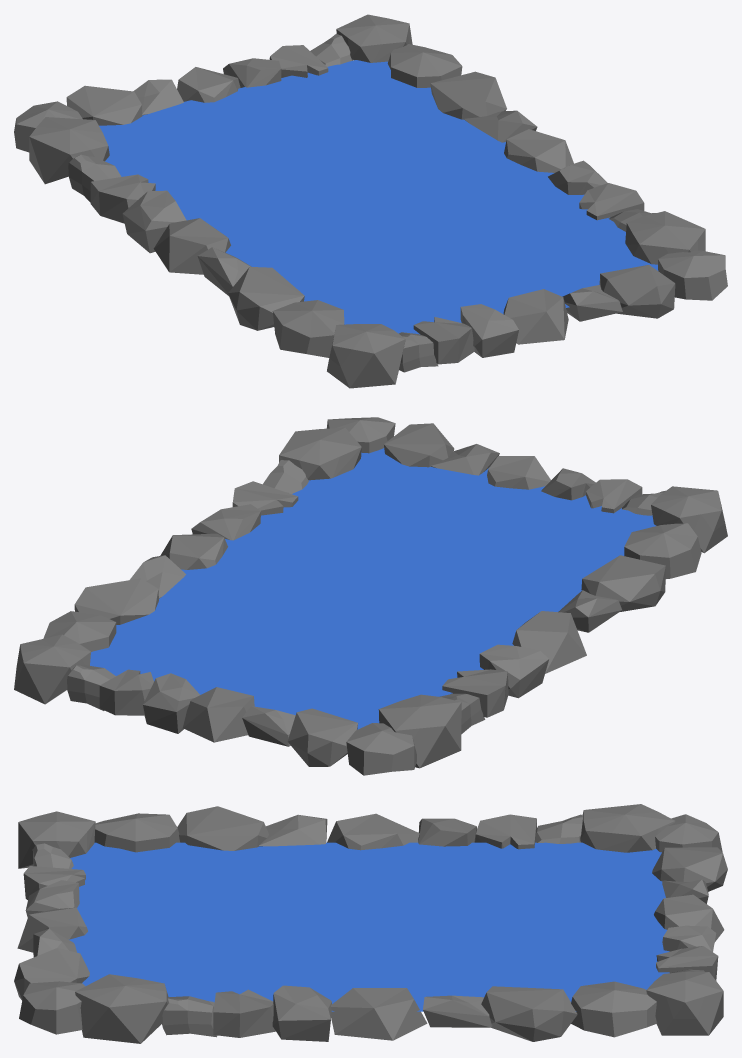
Rendered from lake.glb.
3 renders of one model, top to bottom at view 1: azimuth 30°, elevation 25°; view 2: azimuth 150°, elevation 25°; view 3: azimuth 270°, elevation 25°, orthographic.
Visible parts, largest first — view 1: Plane, Rock1, Rock1.002, Rock8.002, Rock7.002, Rock1.003, Rock7, Rock8, Rock2, Rock2.002, Rock7.003, Rock1.006 (+20 smaller); view 2: Plane, Rock1.002, Rock1.006, Rock7.002, Rock1.003, Rock1, Rock8.002, Rock7.006, Rock8.006, Rock2.006, Rock2.002, Rock7.003 (+20 smaller); view 3: Plane, Rock1.003, Rock1.006, Rock7.003, Rock2.003, Rock8.003, Rock1.002, Rock7.002, Rock5.003, Rock1, Rock8, Rock8.002 (+20 smaller).
Part boxes in pixels (left/top/right/bottom): Plane: left=99, top=60, right=658, bottom=334; Rock1: left=327, top=324, right=405, bottom=388; Rock1.002: left=29, top=117, right=109, bottom=184; Rock8.002: left=272, top=300, right=344, bottom=357; Rock7.002: left=228, top=267, right=304, bottom=330; Rock1.003: left=625, top=211, right=705, bottom=264; Rock7: left=599, top=265, right=675, bottom=318; Rock8: left=658, top=250, right=727, bottom=300; Rock2: left=503, top=289, right=568, bottom=344; Rock2.002: left=153, top=218, right=230, bottom=274; Rock7.003: left=430, top=71, right=506, bottom=119; Rock1.006: left=336, top=14, right=412, bottom=62; Plane: left=90, top=448, right=656, bottom=729; Rock1.002: left=378, top=694, right=461, bottom=768; Rock1.006: left=14, top=634, right=90, bottom=704; Rock7.002: left=581, top=555, right=665, bottom=611; Rock1.003: left=279, top=427, right=361, bottom=480; Rock1: left=651, top=486, right=727, bottom=553; Rock8.002: left=624, top=523, right=701, bottom=578; Rock7.006: left=287, top=708, right=357, bottom=766; Rock8.006: left=346, top=723, right=416, bottom=775; Rock2.006: left=183, top=687, right=254, bottom=742; Rock2.002: left=512, top=611, right=586, bottom=673; Rock7.003: left=74, top=578, right=158, bottom=624; Plane: left=69, top=842, right=669, bottom=1011; Rock1.003: left=75, top=974, right=168, bottom=1043; Rock1.006: left=646, top=971, right=723, bottom=1035; Rock7.003: left=481, top=986, right=577, bottom=1041; Rock2.003: left=330, top=988, right=427, bottom=1040; Rock8.003: left=571, top=981, right=656, bottom=1037; Rock1.002: left=580, top=804, right=675, bottom=852; Rock7.002: left=177, top=806, right=268, bottom=850; Rock5.003: left=272, top=985, right=331, bottom=1041; Rock1: left=18, top=811, right=95, bottom=868; Rock8: left=19, top=981, right=85, bottom=1034; Rock8.002: left=94, top=813, right=180, bottom=852.
Bounding box in the file's own units: 23.81 × 2.46 × 34.68.
